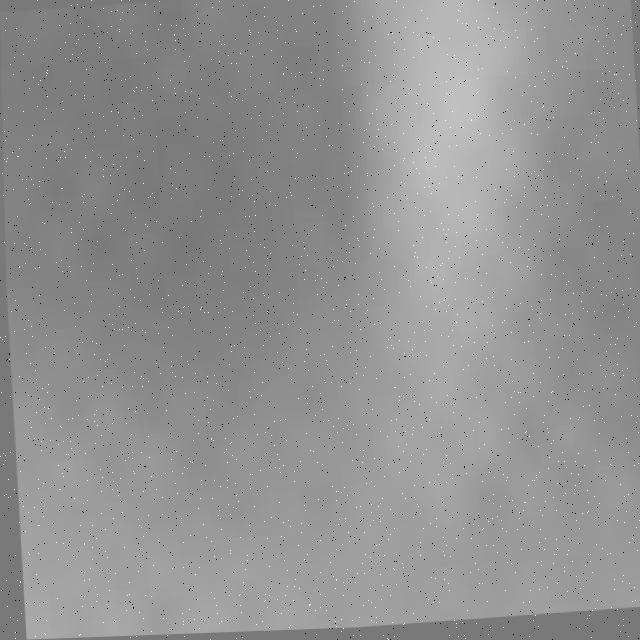person: (372, 1, 570, 506)
